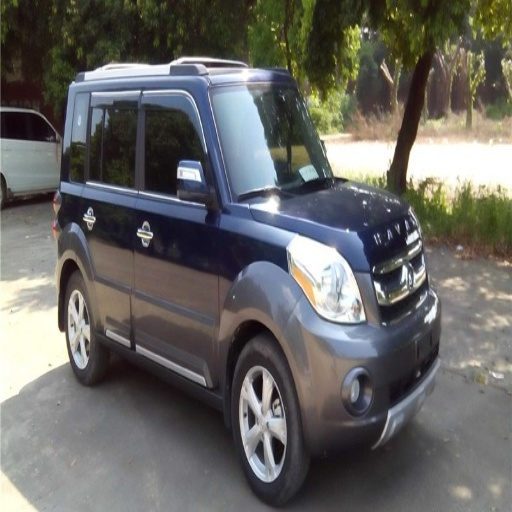front_bumper: (285, 284, 441, 452)
front_right_door: (134, 95, 220, 384)
front_right_light: (289, 238, 368, 323)
